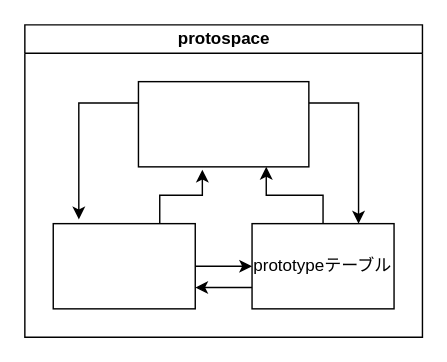
The diagram is 447 pixels wide and 362 high, and some of its shapes have lost their labels. The box of each missing label's shape, as (x1, y1, x2, y2) in pixels:
commentsテーブル: (137, 80, 309, 167)
usersテーブル: (52, 222, 195, 309)
